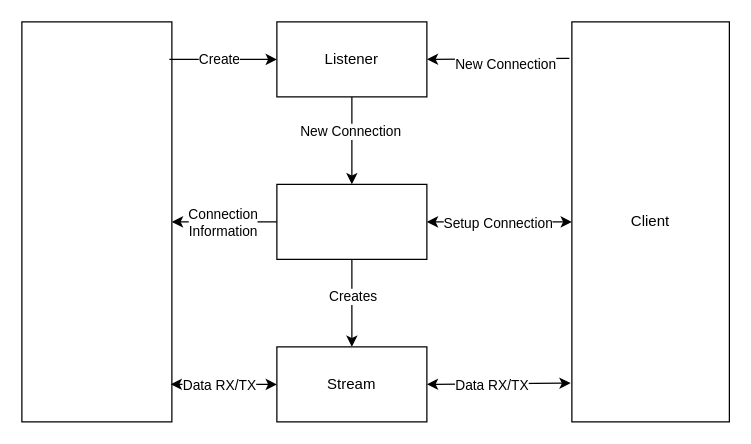
The diagram is 751 pixels wide and 444 high, and some of its shapes have lost their labels. Each missing label, with the box of its shape:
Connection: (276, 183, 427, 259)
Fusion SMB Core: (21, 21, 172, 422)
